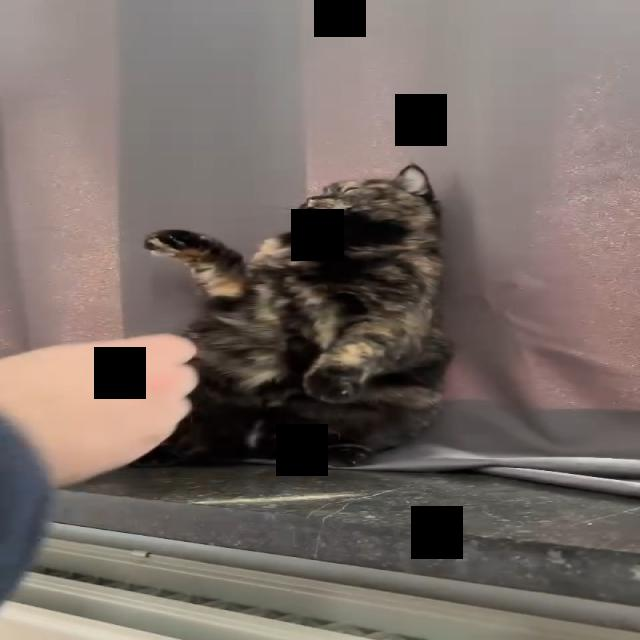authorized: (130, 162, 454, 469)
